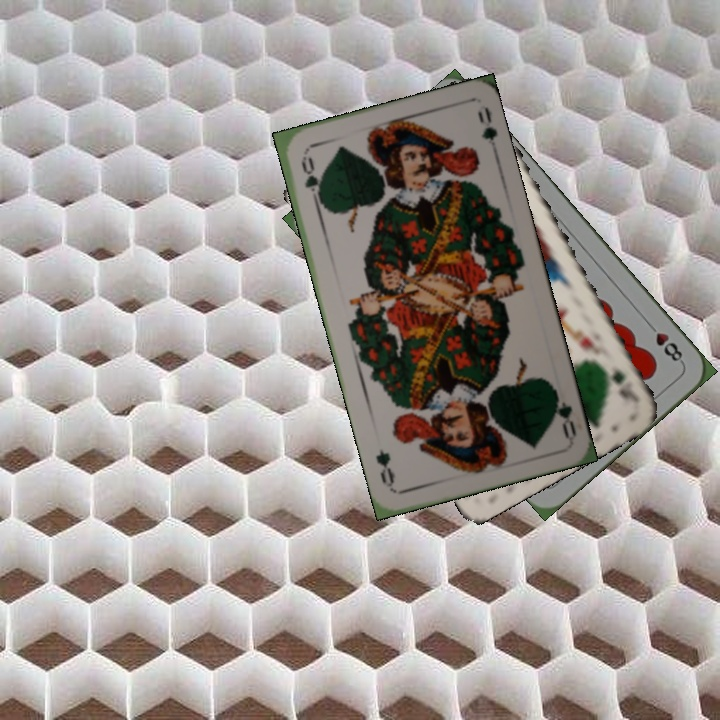GK: (607, 363, 642, 405)
GO: (297, 151, 327, 209), (549, 384, 579, 441)
H8: (643, 318, 686, 367)
